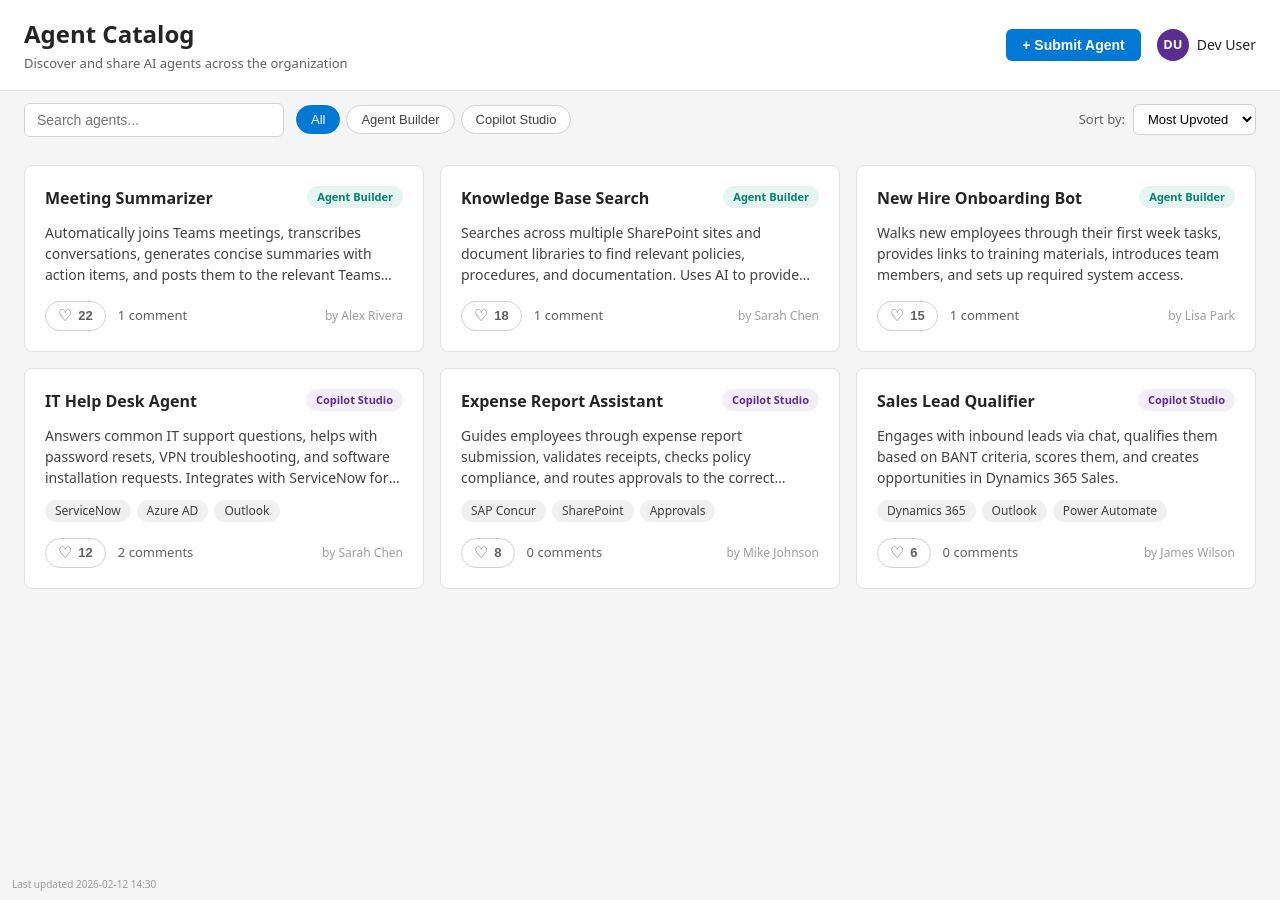
Scenario: App › opens and closes the submit agent modal
The width and height of the screenshot is (1280, 900).
Click the button "+ Submit Agent" at (1073, 45), box 1006,29 -> 1141,61
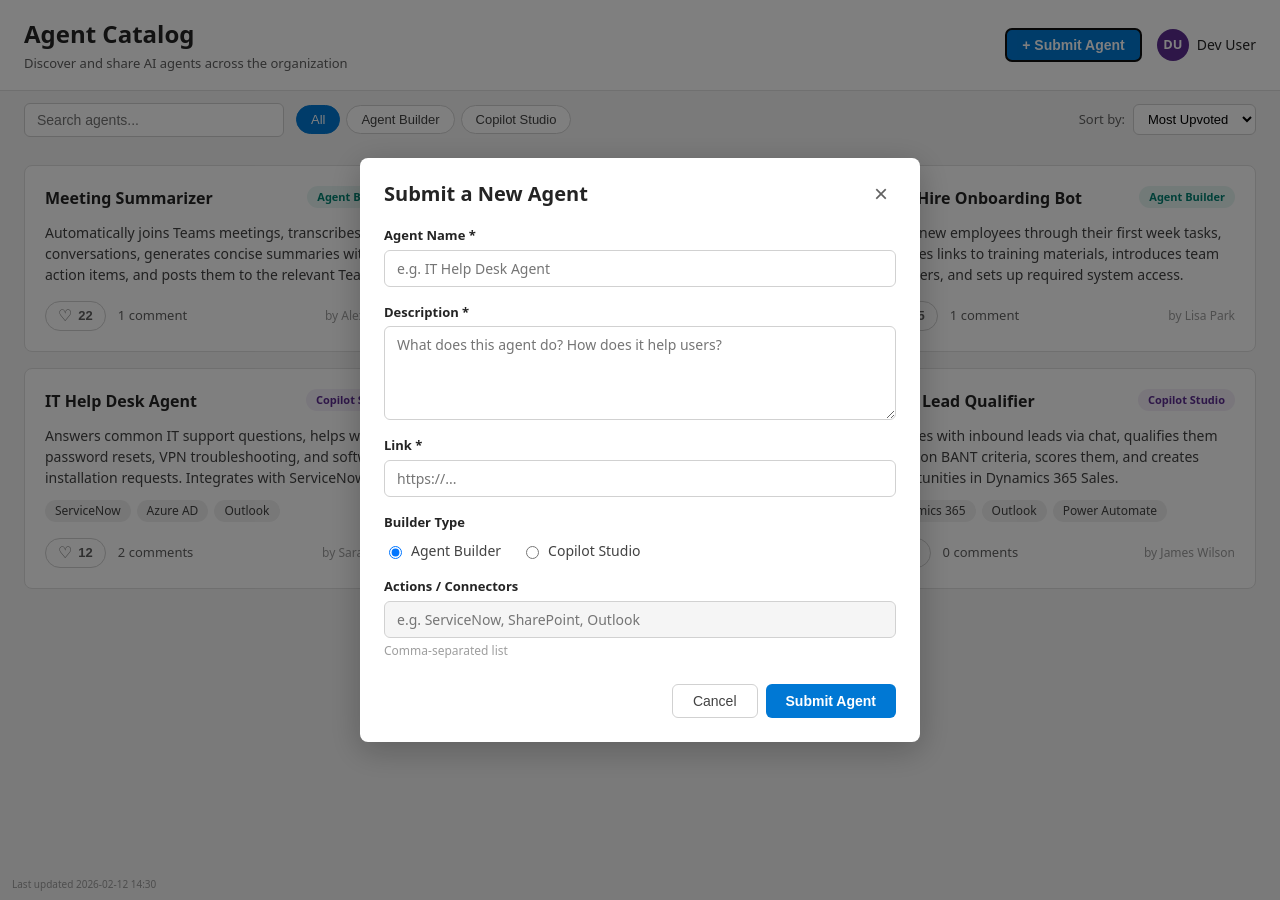
Expected: the heading "Submit a New Agent" is shown, 384,179 -> 588,209
Click the button named "Close" at (881, 194), box 866,178 -> 896,210
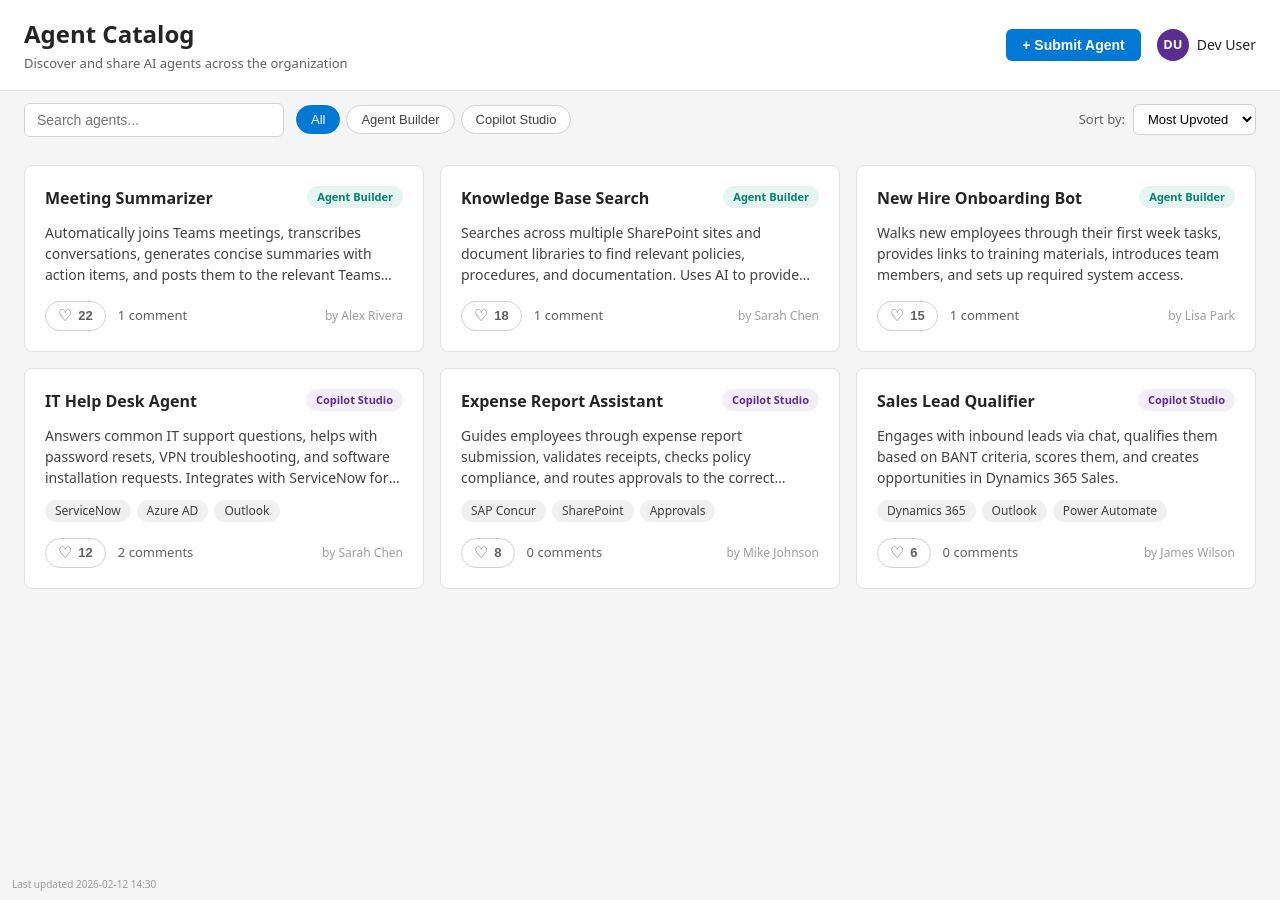
Expected: the heading "Submit a New Agent" is gone
